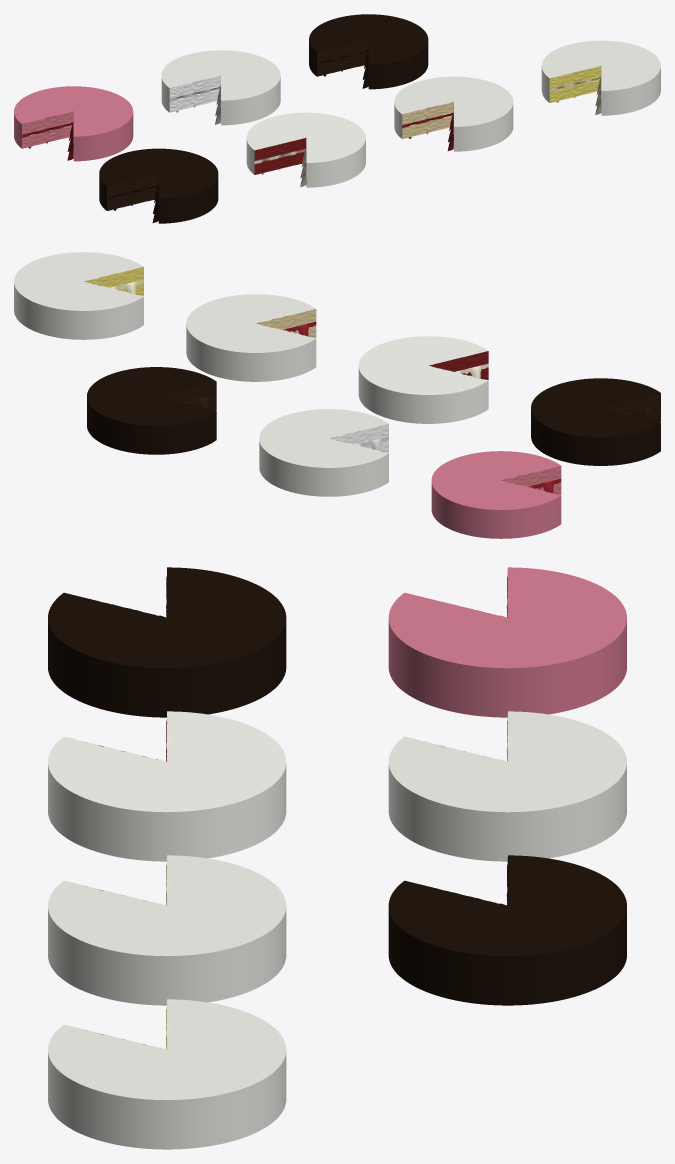
The model's file is oozing_inside.glb.
The picture shows the model from 3 angles, top to bottom: view 1: azimuth 30°, elevation 25°; view 2: azimuth 150°, elevation 25°; view 3: azimuth 270°, elevation 25°; orthographic projection. The views are drawn at different scales.
Visible parts, largest first — view 1: WholeCake_Vanilla_StrawberryJam_TopSponge.002, WholeCake_Chocolate_ChocolateMousse_TopSponge.002, WholeCake_Chocolate_Nutella_TopSponge.002, WholeCake_Strawberry_StrawberryJam_TopSponge.002, WholeCake_Lemon_ButterCream_TopSponge.002, WholeCake_RedVelvet_VanillaCream_TopSponge.002, WholeCake_Funfetti_CookiesAndCream_TopSponge.002, WholeCake_Chocolate_ChocolateMousse_BottomSponge.002, WholeCake_Vanilla_StrawberryJam_BottomSponge.002, WholeCake_RedVelvet_VanillaCream_BottomSponge.002, WholeCake_Strawberry_StrawberryJam_BottomSponge.002, WholeCake_Chocolate_Nutella_BottomSponge.002 (+9 smaller); view 2: WholeCake_Vanilla_StrawberryJam_TopSponge.002, WholeCake_Strawberry_StrawberryJam_TopSponge.002, WholeCake_RedVelvet_VanillaCream_TopSponge.002, WholeCake_Chocolate_ChocolateMousse_TopSponge.002, WholeCake_Funfetti_CookiesAndCream_TopSponge.002, WholeCake_Lemon_ButterCream_TopSponge.002, WholeCake_Chocolate_Nutella_TopSponge.002, WholeCake_Vanilla_StrawberryJam_BottomSponge.002, WholeCake_Strawberry_StrawberryJam_BottomSponge.002, WholeCake_RedVelvet_VanillaCream_BottomSponge.002, WholeCake_Chocolate_Nutella_BottomSponge.002, WholeCake_Funfetti_CookiesAndCream_BottomSponge.002 (+9 smaller); view 3: WholeCake_Lemon_ButterCream_TopSponge.002, WholeCake_Chocolate_ChocolateMousse_TopSponge.002, WholeCake_RedVelvet_VanillaCream_TopSponge.002, WholeCake_Vanilla_StrawberryJam_TopSponge.002, WholeCake_Funfetti_CookiesAndCream_TopSponge.002, WholeCake_Chocolate_Nutella_TopSponge.002, WholeCake_Strawberry_StrawberryJam_TopSponge.002, WholeCake_Chocolate_Nutella_BottomSponge.002, WholeCake_Lemon_ButterCream_BottomSponge.002, WholeCake_Strawberry_StrawberryJam_BottomSponge.002, WholeCake_Funfetti_CookiesAndCream_BottomSponge.002, WholeCake_Chocolate_ChocolateMousse_BottomSponge.002 (+9 smaller).
Boxes of the visible parts, x1,y1,x2,y2 form: WholeCake_Vanilla_StrawberryJam_TopSponge.002: (394, 76, 513, 137); WholeCake_Chocolate_ChocolateMousse_TopSponge.002: (99, 148, 218, 209); WholeCake_Chocolate_Nutella_TopSponge.002: (309, 14, 428, 75); WholeCake_Strawberry_StrawberryJam_TopSponge.002: (14, 86, 133, 147); WholeCake_Lemon_ButterCream_TopSponge.002: (541, 40, 660, 101); WholeCake_RedVelvet_VanillaCream_TopSponge.002: (246, 112, 365, 173); WholeCake_Funfetti_CookiesAndCream_TopSponge.002: (161, 50, 280, 111); WholeCake_Chocolate_ChocolateMousse_BottomSponge.002: (99, 187, 218, 223); WholeCake_Vanilla_StrawberryJam_BottomSponge.002: (394, 115, 513, 151); WholeCake_RedVelvet_VanillaCream_BottomSponge.002: (246, 151, 365, 187); WholeCake_Strawberry_StrawberryJam_BottomSponge.002: (14, 125, 133, 161); WholeCake_Chocolate_Nutella_BottomSponge.002: (309, 53, 428, 89); WholeCake_Vanilla_StrawberryJam_TopSponge.002: (186, 294, 316, 365); WholeCake_Strawberry_StrawberryJam_TopSponge.002: (431, 451, 561, 522); WholeCake_RedVelvet_VanillaCream_TopSponge.002: (358, 336, 488, 407); WholeCake_Chocolate_ChocolateMousse_TopSponge.002: (531, 378, 660, 449); WholeCake_Funfetti_CookiesAndCream_TopSponge.002: (259, 409, 388, 480); WholeCake_Lemon_ButterCream_TopSponge.002: (14, 252, 143, 323); WholeCake_Chocolate_Nutella_TopSponge.002: (87, 367, 216, 438); WholeCake_Vanilla_StrawberryJam_BottomSponge.002: (186, 325, 316, 381); WholeCake_Strawberry_StrawberryJam_BottomSponge.002: (431, 482, 561, 538); WholeCake_RedVelvet_VanillaCream_BottomSponge.002: (358, 367, 488, 423); WholeCake_Chocolate_Nutella_BottomSponge.002: (87, 398, 216, 454); WholeCake_Funfetti_CookiesAndCream_BottomSponge.002: (259, 440, 388, 496); WholeCake_Lemon_ButterCream_TopSponge.002: (48, 999, 286, 1121); WholeCake_Chocolate_ChocolateMousse_TopSponge.002: (48, 567, 286, 689); WholeCake_RedVelvet_VanillaCream_TopSponge.002: (48, 711, 286, 833); WholeCake_Vanilla_StrawberryJam_TopSponge.002: (48, 855, 286, 977); WholeCake_Funfetti_CookiesAndCream_TopSponge.002: (388, 711, 626, 833); WholeCake_Chocolate_Nutella_TopSponge.002: (388, 855, 626, 977); WholeCake_Strawberry_StrawberryJam_TopSponge.002: (388, 567, 626, 689); WholeCake_Chocolate_Nutella_BottomSponge.002: (388, 898, 626, 1005); WholeCake_Lemon_ButterCream_BottomSponge.002: (48, 1043, 286, 1149); WholeCake_Strawberry_StrawberryJam_BottomSponge.002: (388, 610, 626, 717); WholeCake_Funfetti_CookiesAndCream_BottomSponge.002: (388, 754, 626, 861); WholeCake_Chocolate_ChocolateMousse_BottomSponge.002: (48, 611, 286, 717).
Bounding box in the file's own units: 37 × 1.93 × 17.
